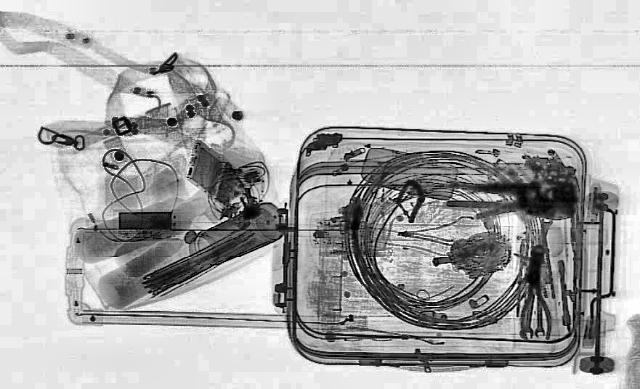Pliers: (518, 261, 552, 339)
Wrench: (520, 308, 534, 338), (534, 300, 546, 335)
